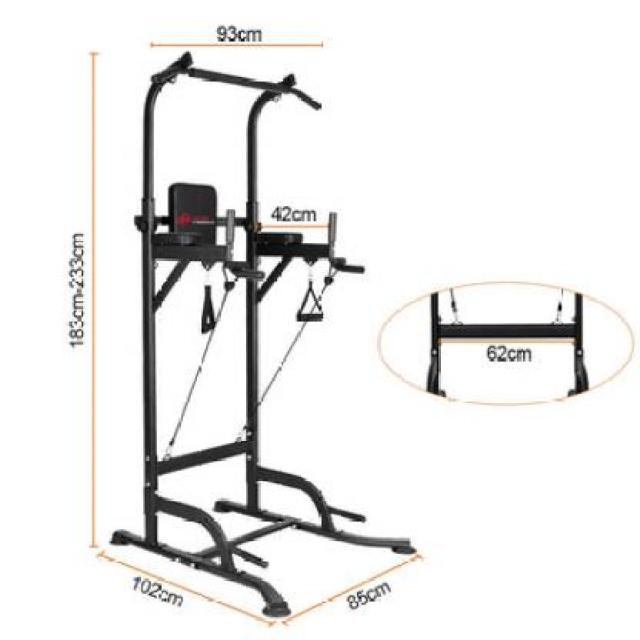chinning dipping: (114, 52, 415, 612)
